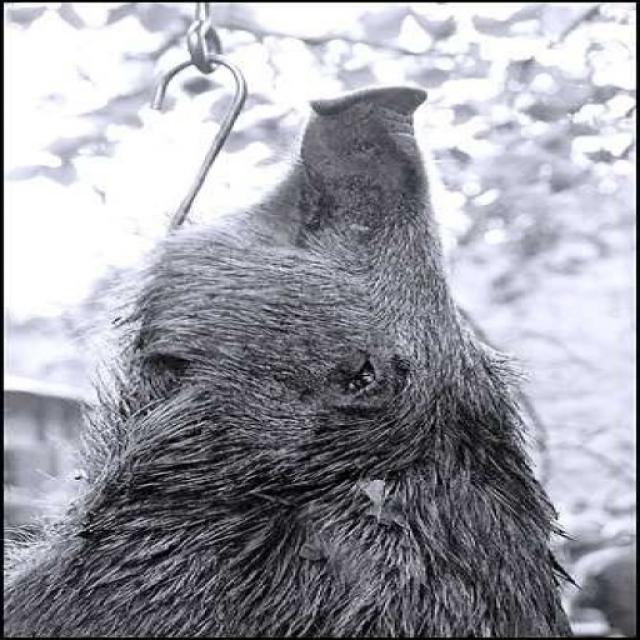pig: (140, 61, 558, 640)
